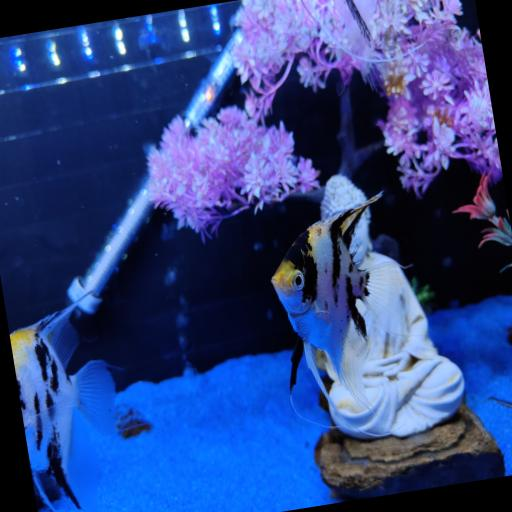Fish: (272, 194, 400, 414), (10, 304, 115, 511)
